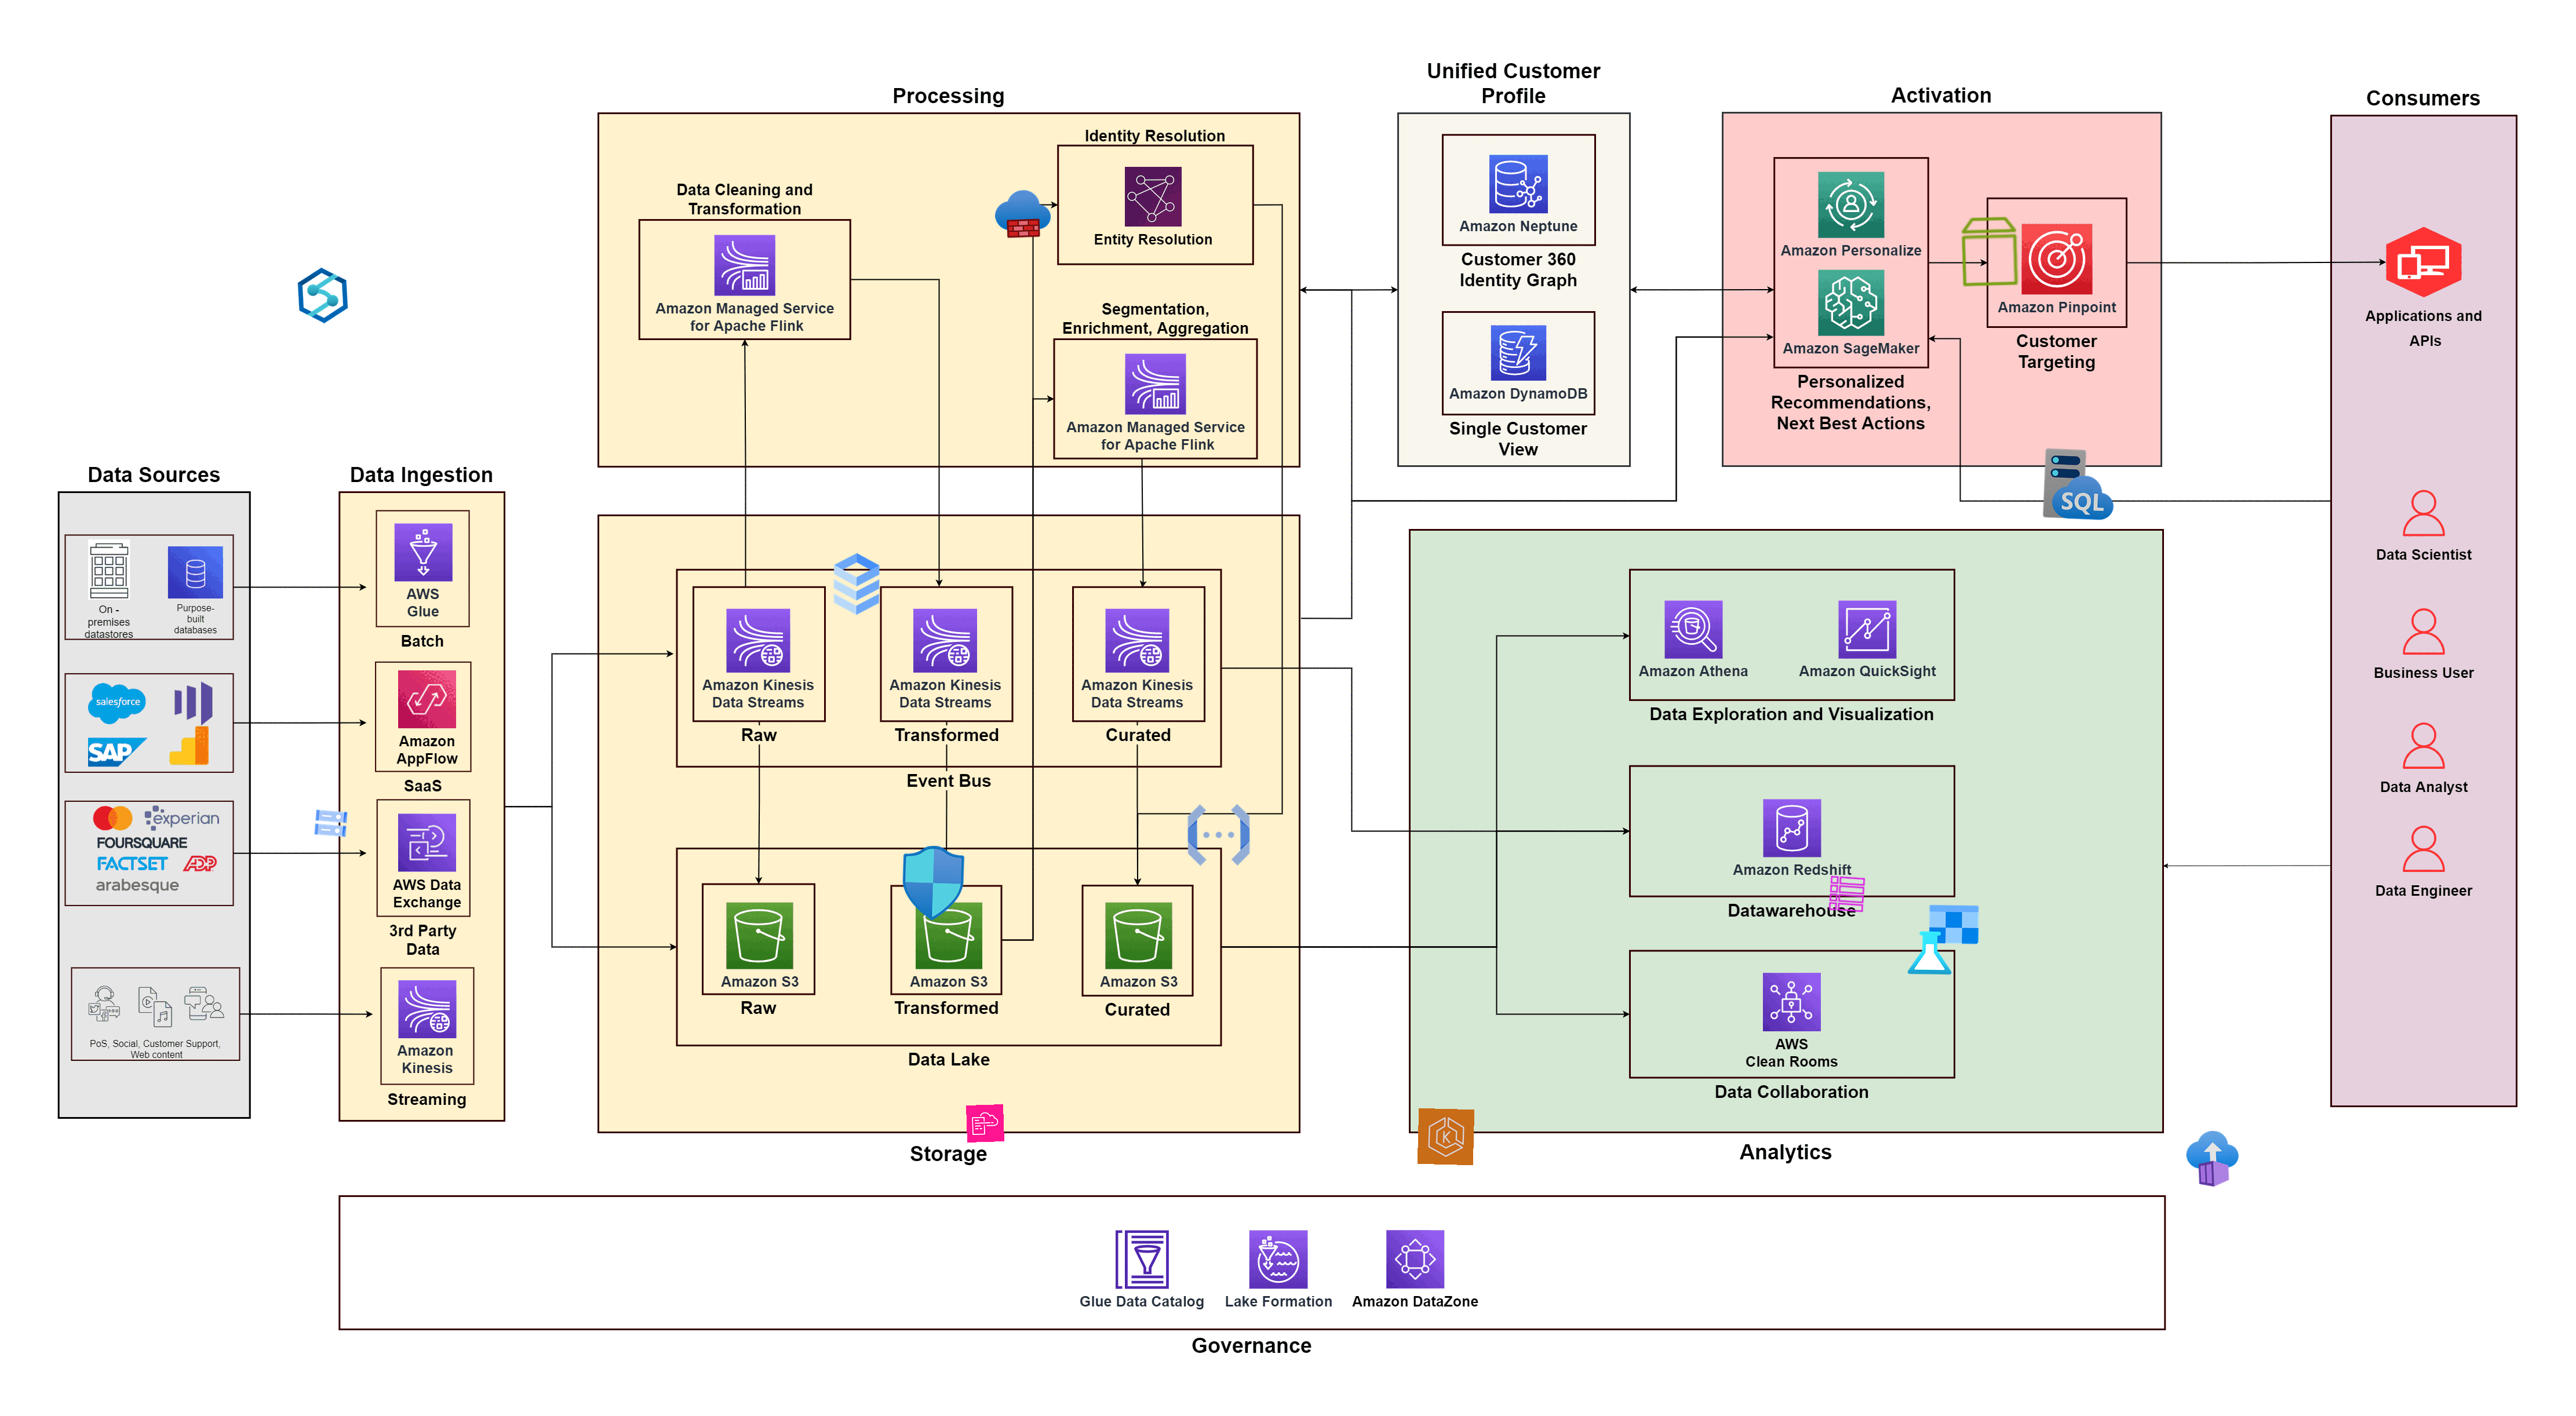aws_amazon_elastic_kubernetes_service: (1416, 1107, 1475, 1165)
aws_cloudformation: (966, 1104, 1005, 1142)
aws_dynamodb_table: (1826, 874, 1868, 914)
aws_elastic_block_store_volume: (1952, 213, 2028, 289)
azure_container_instances: (2184, 1130, 2241, 1188)
azure_firewalls: (994, 185, 1052, 242)
azure_machine_learning_studio_workspaces: (1906, 902, 1981, 977)
azure_network_security_groups: (895, 844, 971, 921)
azure_sql_managed_instance: (2041, 445, 2117, 523)
azure_synapse_analytics: (293, 265, 352, 324)
gcp_cloud_functions: (1181, 797, 1256, 872)
gcp_cloud_sql: (820, 546, 895, 621)
gcp_cloud_storage: (310, 802, 351, 844)
